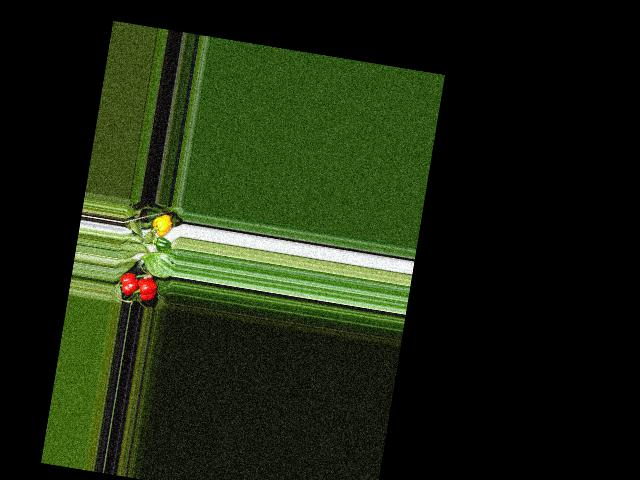bell_pepper: (150, 210, 175, 238)
